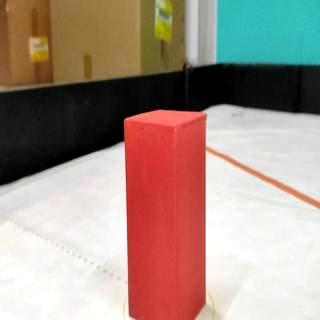redbox: (125, 107, 207, 320)
